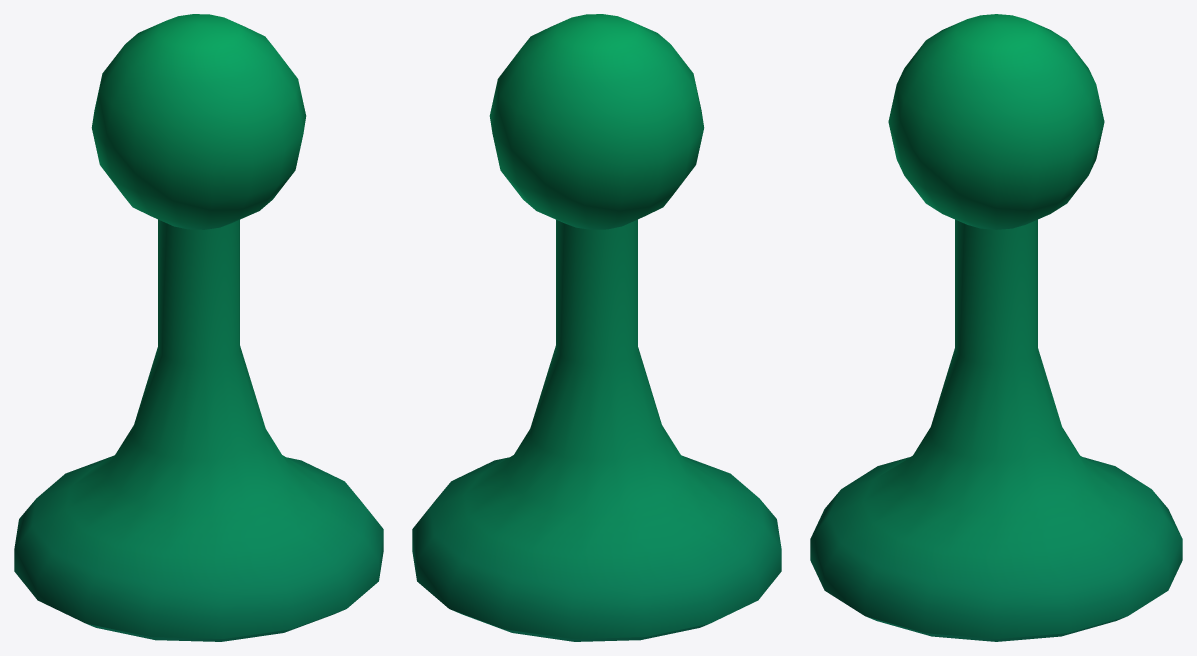
Rendered from pawn-b-green.glb.
3 renders of one model, left to right at view 1: azimuth 30°, elevation 25°; view 2: azimuth 150°, elevation 25°; view 3: azimuth 270°, elevation 25°, orthographic.
Visible parts, largest first — view 1: pawn_B_green; view 2: pawn_B_green; view 3: pawn_B_green.
Boxes of the visible parts, bbox=[...] form: pawn_B_green: bbox=[14, 14, 383, 641]; pawn_B_green: bbox=[412, 14, 781, 641]; pawn_B_green: bbox=[810, 14, 1182, 641].
Size of the model in its own units: 0.75 by 1.21 by 0.75.
Materials: 1 (1 with a texture image).
